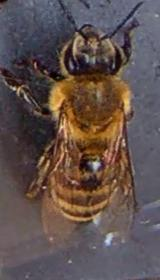varroa_mite: (100, 143, 122, 163)
